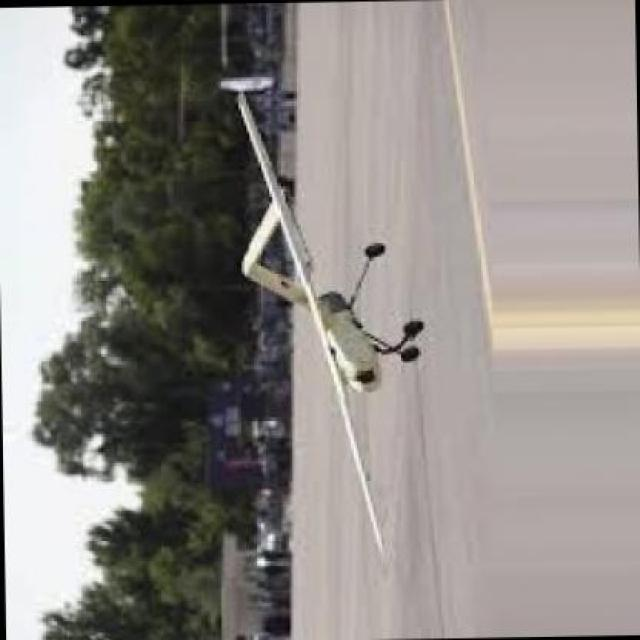iha: (221, 89, 426, 396)
